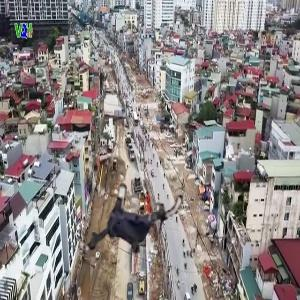drone: (76, 169, 187, 280)
